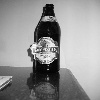beer: (31, 3, 66, 69)
